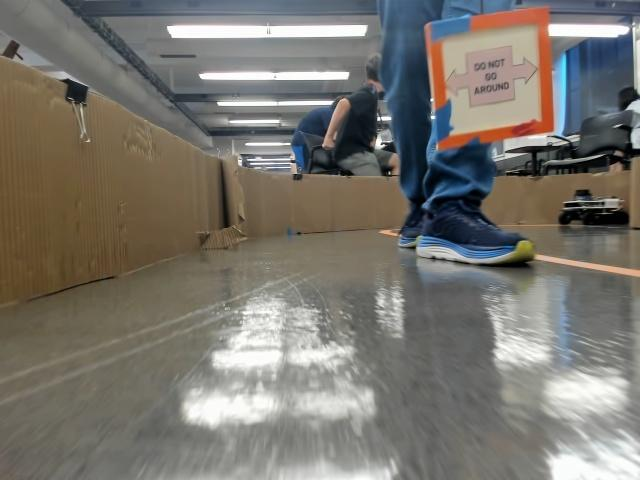Do Not Go Around: (444, 56, 533, 108)
